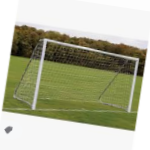goals: (13, 37, 140, 114)
